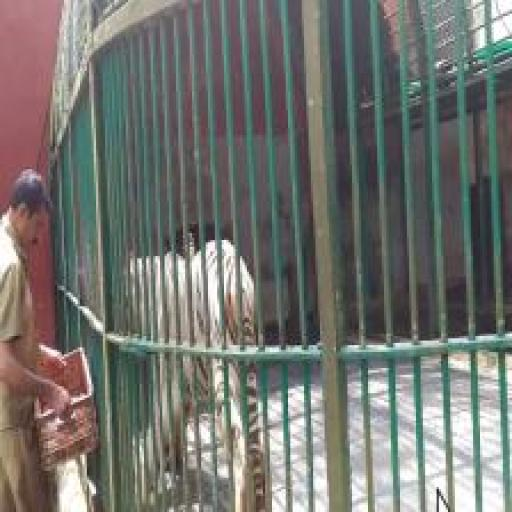Elephant: (109, 240, 318, 512)
